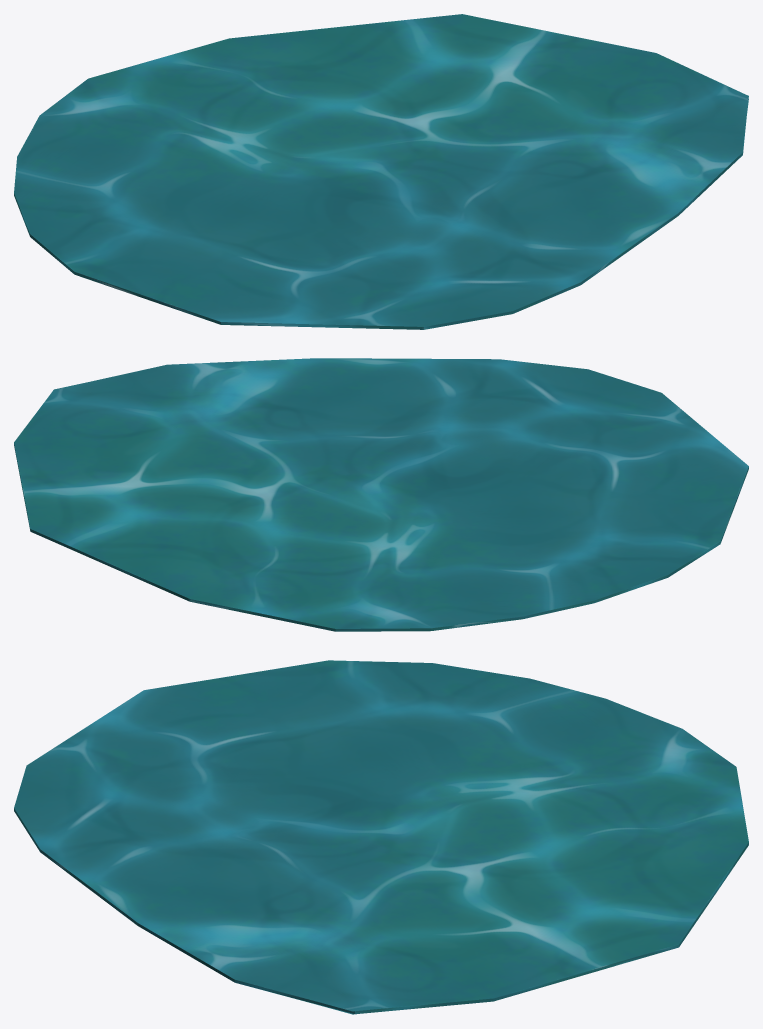
The model's file is Bathroom_Su.fbx.
The picture shows the model from 3 angles, top to bottom: view 1: azimuth 30°, elevation 25°; view 2: azimuth 150°, elevation 25°; view 3: azimuth 270°, elevation 25°; orthographic projection. The views are drawn at different scales.
Parts seen in each view (by area): view 1: Plane; view 2: Plane; view 3: Plane.
Boxes of the visible parts, box(x1,y1,x2,y2) form: Plane: box(14, 14, 748, 329); Plane: box(14, 358, 748, 631); Plane: box(14, 660, 748, 1014).
Bounding box in the file's own units: 75.57 × 0.3089 × 66.84.
Materials: 1 (1 with a texture image).
